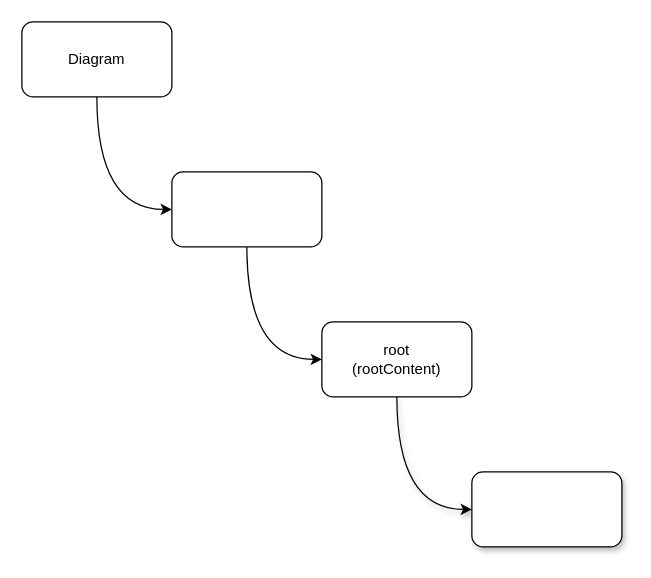
Some shapes in this 651 by 578 pixel diagram are drawn without their labels. Here are the shapes that lost their labels. From the top down, the centre of each, then its label:
point (246, 209): mxGraphModel (diagramContent)
point (547, 511): cell+ (cell_withContent, cell_withoutConten)
